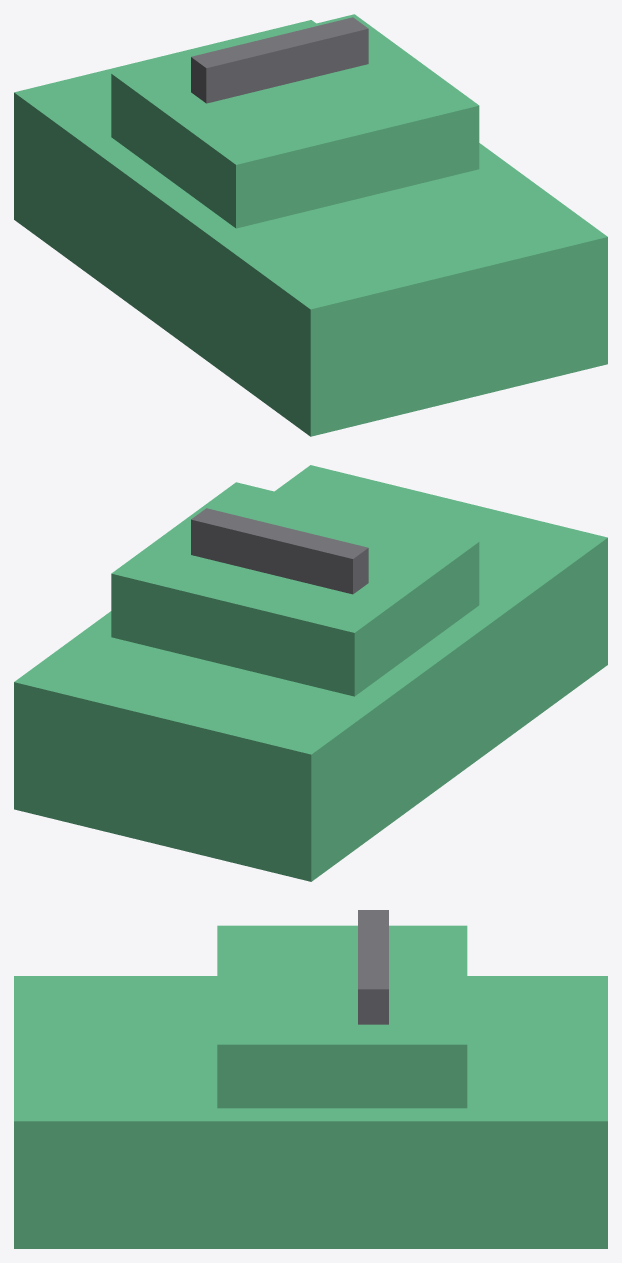
The model's file is sports-coupe.glb.
3 views of the same model, one above another, from view 1: azimuth 30°, elevation 25°; view 2: azimuth 150°, elevation 25°; view 3: azimuth 270°, elevation 25° (orthographic).
Parts seen in each view (by area): view 1: sports-coupe; view 2: sports-coupe; view 3: sports-coupe.
Part boxes in pixels (x1=…): sports-coupe: x1=14, y1=14, x2=607, y2=436; sports-coupe: x1=14, y1=465, x2=607, y2=881; sports-coupe: x1=14, y1=910, x2=607, y2=1248.
Size of the model in its own units: 1.1 by 0.8 by 1.9.
